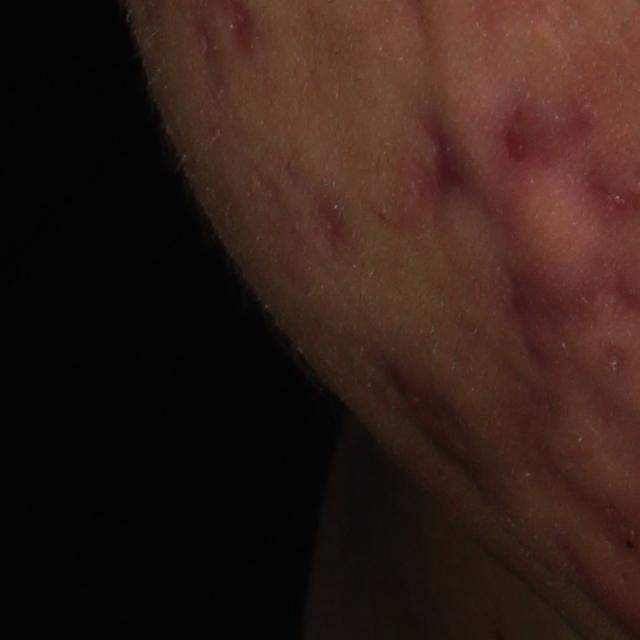atrophic_scar: (504, 106, 594, 164), (430, 109, 475, 225), (303, 189, 363, 260)
